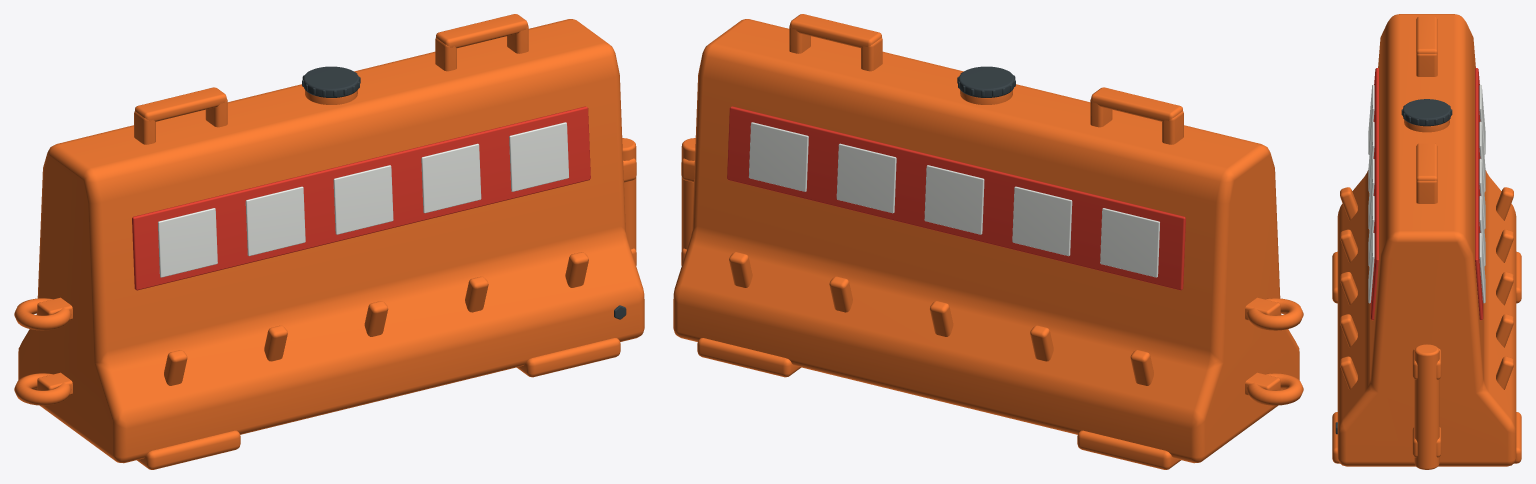
Rendered from city-road-barrier.glb.
The picture shows the model from 3 angles, left to right: view 1: azimuth 30°, elevation 25°; view 2: azimuth 150°, elevation 25°; view 3: azimuth 270°, elevation 25°; orthographic projection. The views are drawn at different scales.
Visible parts, largest first — view 1: Hollow-form water-fill barrier shell, Recessed reflective panel bed, White reflector tile.002, White reflector tile, White reflector tile.001, White reflector tile.003, White reflector tile.004, Wide molded ground foot.001, Wide molded ground foot, Carry handle bridge.001, Carry handle bridge, Black screw fill cap (+8 smaller); view 2: Hollow-form water-fill barrier shell, Recessed reflective panel bed.001, White reflector tile.007, White reflector tile.005, White reflector tile.006, White reflector tile.008, White reflector tile.009, Wide molded ground foot.001, Wide molded ground foot, Carry handle bridge, Carry handle bridge.001, Black screw fill cap (+8 smaller); view 3: Hollow-form water-fill barrier shell, Male linking pin, Recessed reflective panel bed, Recessed reflective panel bed.001, Black screw fill cap, Carry handle bridge.001, Carry handle bridge, Wide molded ground foot, Wide molded ground foot.001, Carry handle standoff.001, Carry handle standoff.003, Lower molded stiffening rib.004 (+22 smaller).
Part boxes in pixels (<box>): Hollow-form water-fill barrier shell: <box>18,19,644,463</box>; Recessed reflective panel bed: <box>132,106,590,290</box>; White reflector tile.002: <box>333,165,393,234</box>; White reflector tile: <box>158,208,217,277</box>; White reflector tile.001: <box>245,186,305,256</box>; White reflector tile.003: <box>421,143,481,213</box>; White reflector tile.004: <box>509,122,568,191</box>; Wide molded ground foot.001: <box>517,338,620,377</box>; Wide molded ground foot: <box>137,430,240,469</box>; Carry handle bridge.001: <box>436,14,527,48</box>; Carry handle bridge: <box>135,87,226,121</box>; Black screw fill cap: <box>303,66,359,97</box>; Hollow-form water-fill barrier shell: <box>673,19,1299,463</box>; Recessed reflective panel bed.001: <box>727,106,1185,290</box>; White reflector tile.007: <box>924,165,984,234</box>; White reflector tile.005: <box>1100,208,1159,277</box>; White reflector tile.006: <box>1012,186,1072,256</box>; White reflector tile.008: <box>836,143,896,213</box>; White reflector tile.009: <box>749,122,808,191</box>; Wide molded ground foot.001: <box>697,338,800,377</box>; Wide molded ground foot: <box>1077,430,1180,469</box>; Carry handle bridge: <box>1091,87,1182,121</box>; Carry handle bridge.001: <box>790,14,881,48</box>; Black screw fill cap: <box>958,66,1014,97</box>; Hollow-form water-fill barrier shell: <box>1337,14,1516,466</box>; Male linking pin: <box>1414,344,1439,469</box>; Recessed reflective panel bed: <box>1370,68,1378,320</box>; Recessed reflective panel bed.001: <box>1475,68,1483,320</box>; Black screw fill cap: <box>1402,99,1451,126</box>; Carry handle bridge.001: <box>1416,143,1437,181</box>; Carry handle bridge: <box>1416,16,1437,54</box>; Wide molded ground foot: <box>1332,251,1521,303</box>; Wide molded ground foot.001: <box>1332,412,1521,463</box>; Carry handle standoff.001: <box>1416,54,1437,76</box>; Carry handle standoff.003: <box>1416,181,1437,203</box>; Lower molded stiffening rib.004: <box>1340,356,1357,389</box>.
Bounding box in the file's own units: 1.72 × 0.832 × 0.53.
